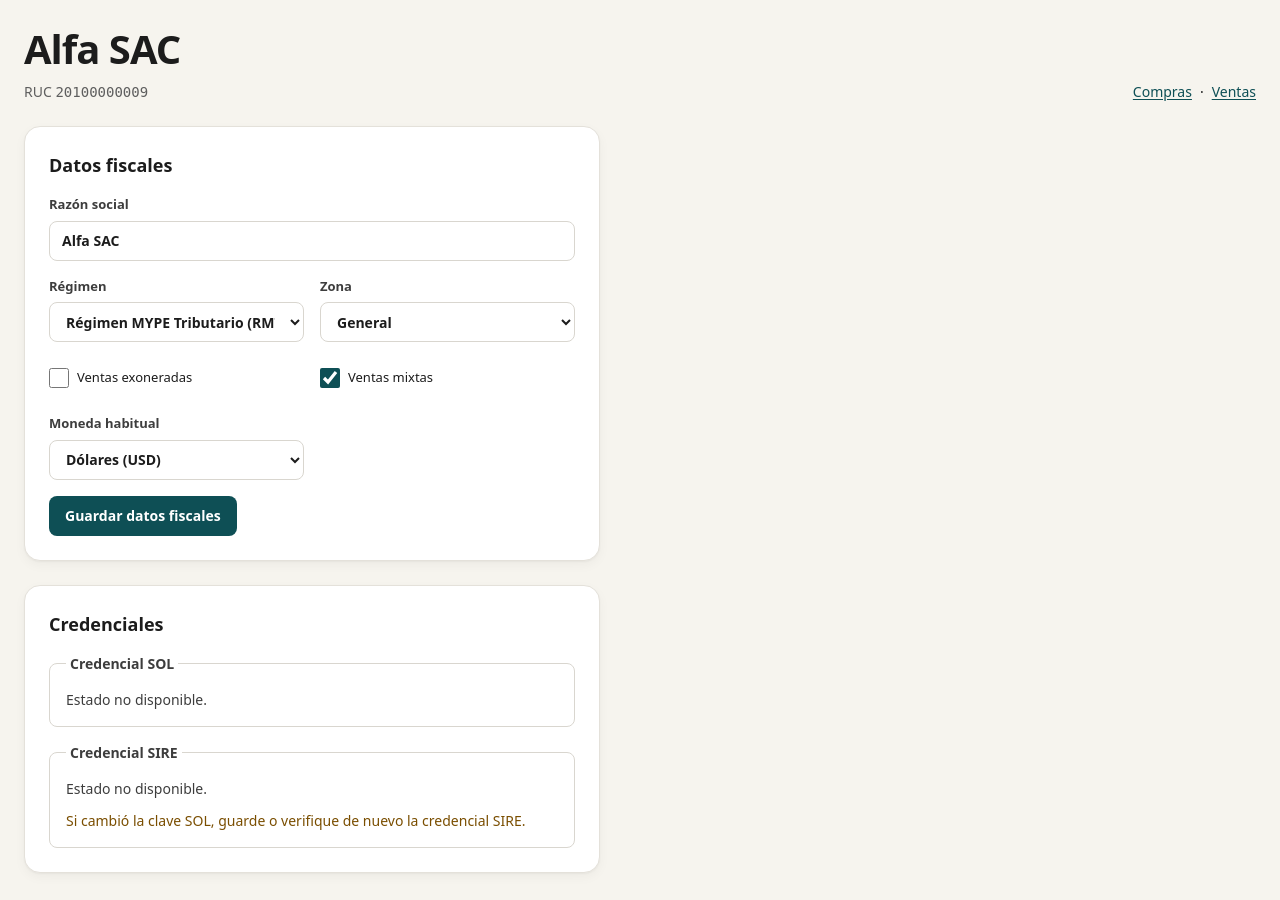
Test: /clientes/:id · datos fiscales y archivado (007a) › editar: PATCH con el perfil completo y CSRF; muestra 'Datos guardados.'
Select "Régimen General (RG)" in the dropdown labelled "Régimen" at (176, 322), box [49,302,304,342]
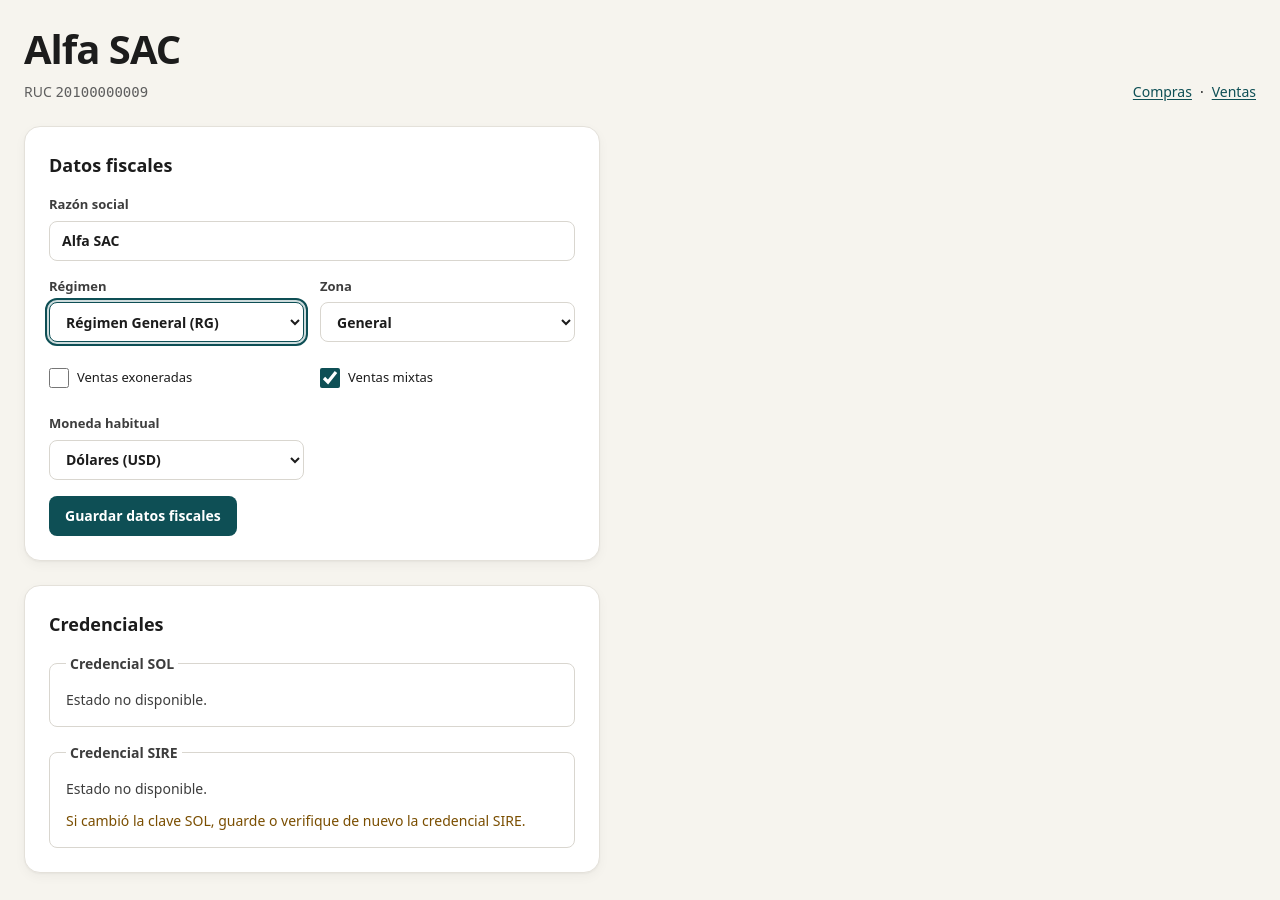
Select "Amazonía" in the dropdown labelled "Zona" at (448, 322), box [320,302,575,342]
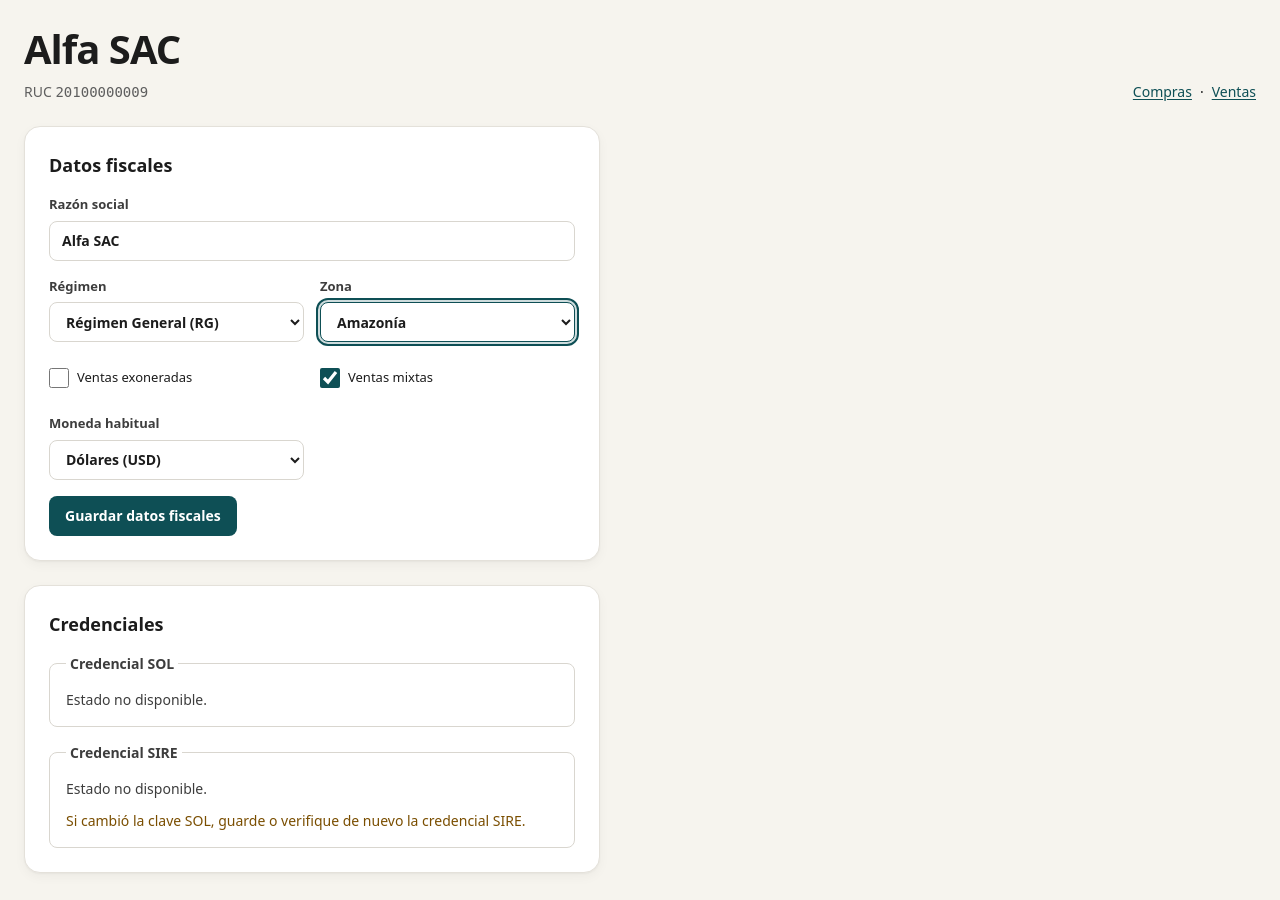
Click the checkbox labelled "Ventas exoneradas" at (59, 378), box [49,368,69,388]
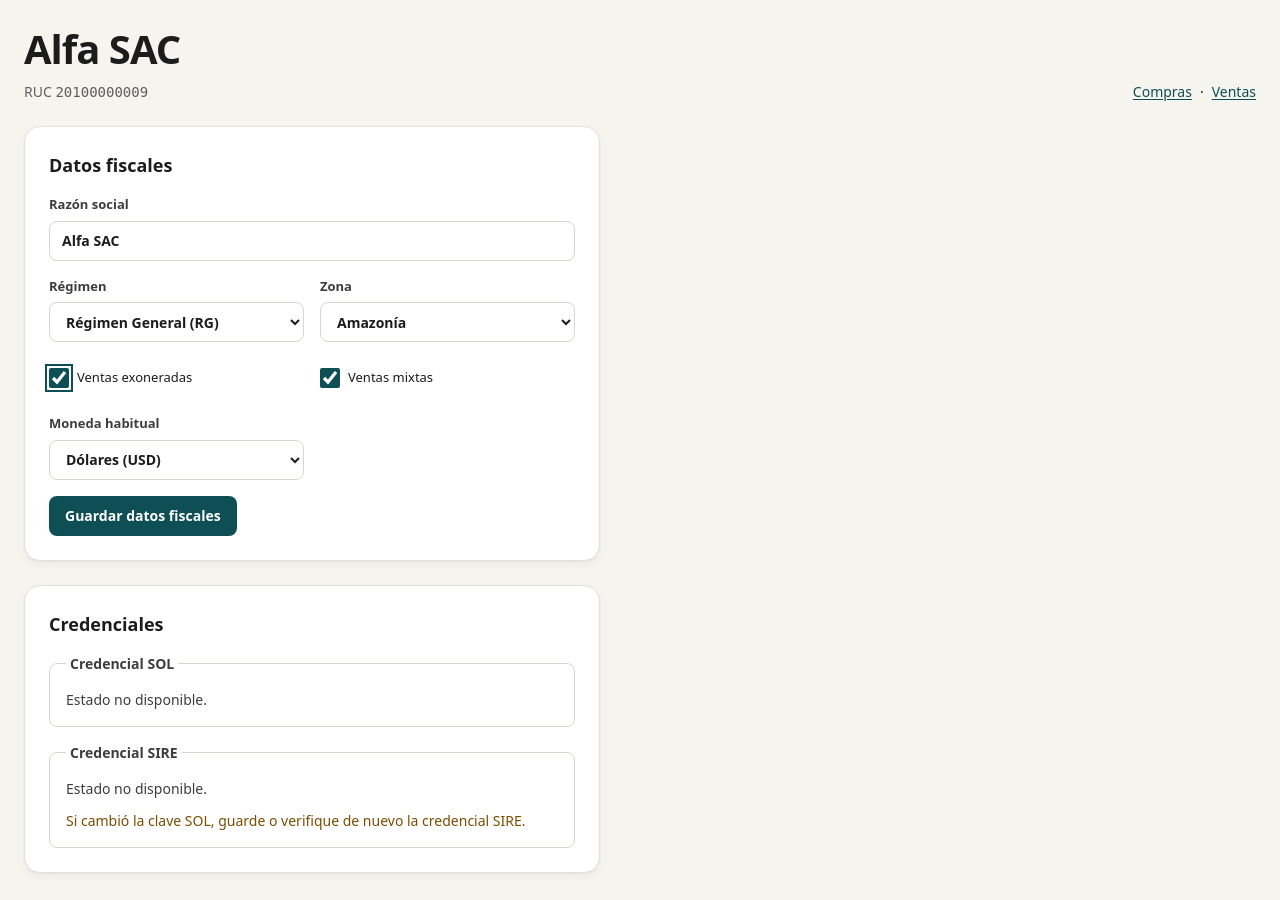
Select "Soles (PEN)" in the dropdown labelled "Moneda habitual" at (176, 460), box [49,440,304,480]
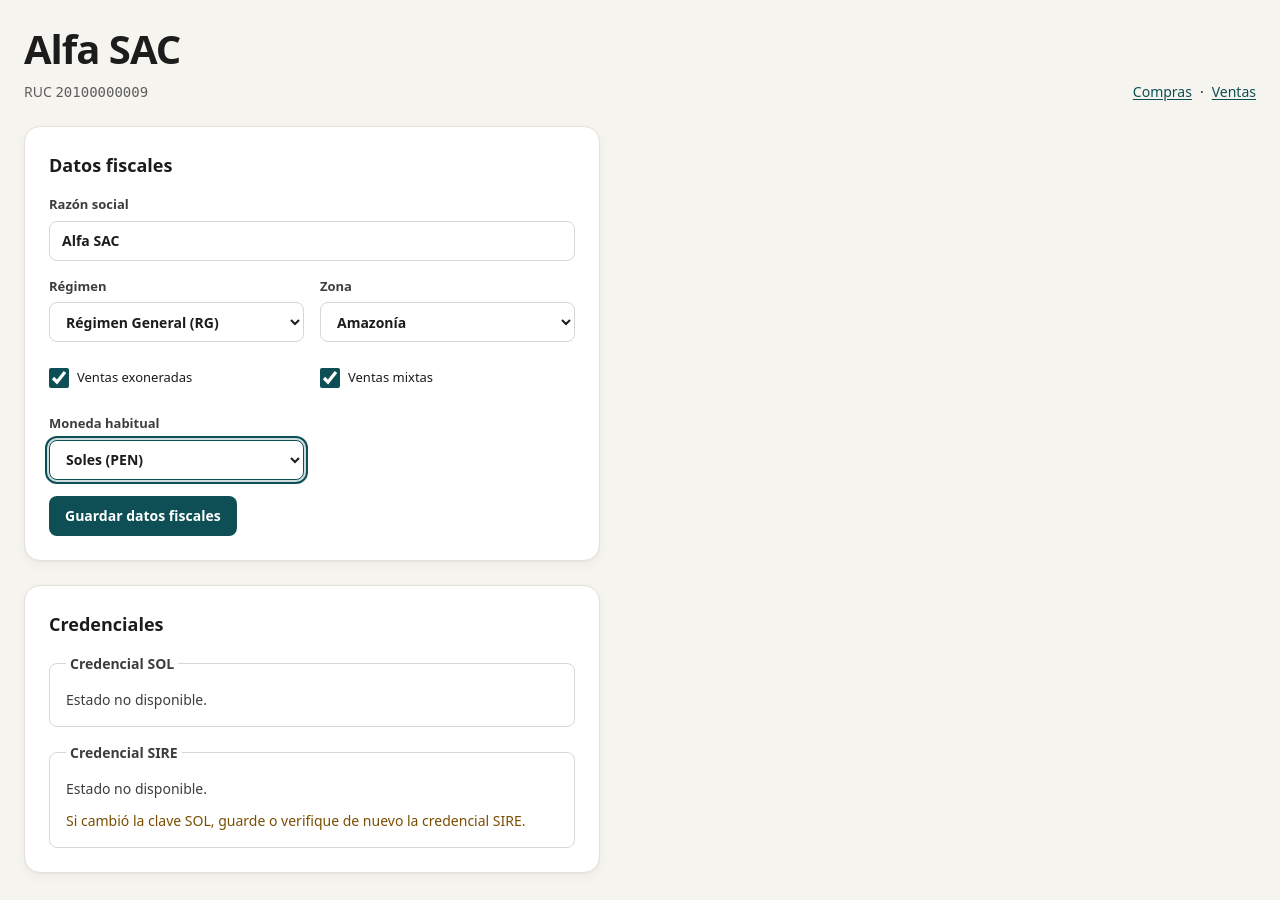
Click the button "Guardar datos fiscales" at (143, 516), box [49,496,237,536]
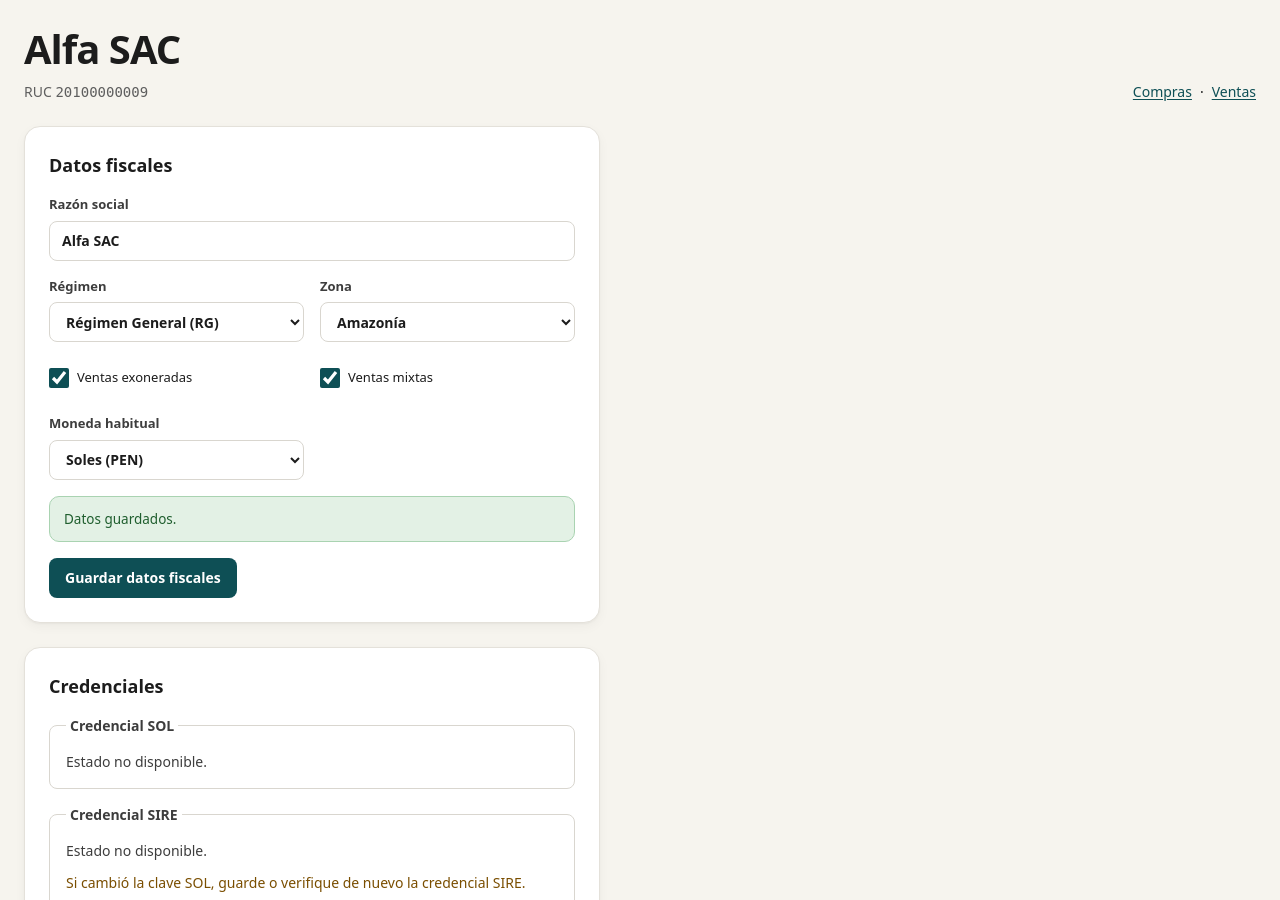
Now the text "Datos guardados." is shown, box [49,496,575,542]
